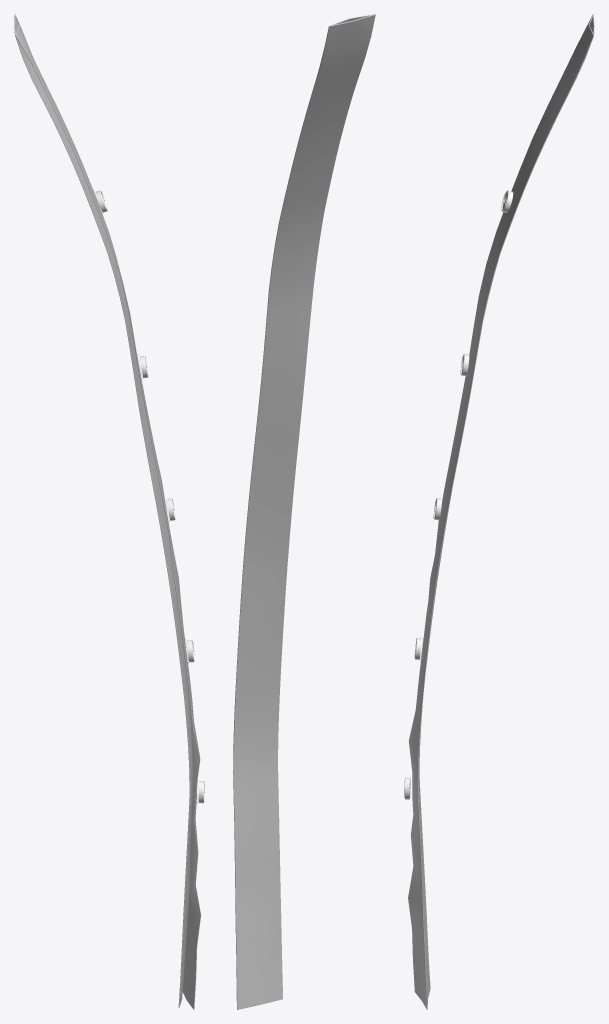
The model's file is Placket.glb.
3 renders of one model, left to right at view 1: azimuth 90°, elevation 25°; view 2: azimuth 210°, elevation 25°; view 3: azimuth 270°, elevation 25°, orthographic. The views are drawn at different scales.
Parts seen in each view (by area): view 1: Cloth; view 2: Cloth; view 3: Cloth.
Boxes of the visible parts, x1,y1,x2,y2 form: Cloth: (14,14,201,1009); Cloth: (233,14,375,1009); Cloth: (408,14,594,1009).
Bounding box in the file's own units: 3.03 × 61.69 × 10.9.
Materials: 7 (5 with a texture image).
